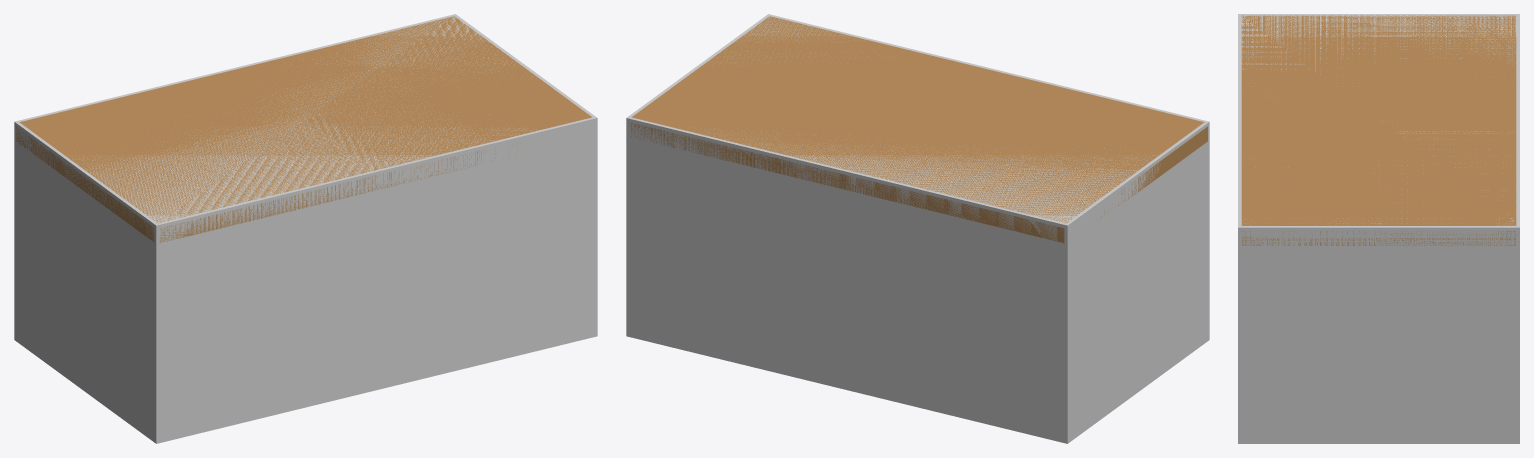
File: dining-table_commercial.glb
The picture shows the model from 3 angles, left to right: view 1: azimuth 30°, elevation 25°; view 2: azimuth 150°, elevation 25°; view 3: azimuth 270°, elevation 25°; orthographic projection.
Parts seen in each view (by area): view 1: COL_dining-table, MESH_Top; view 2: COL_dining-table, MESH_Top; view 3: COL_dining-table, MESH_Top.
Part boxes in pixels (<box>): COL_dining-table: <box>14,14,597,443</box>; MESH_Top: <box>16,16,592,242</box>; COL_dining-table: <box>626,14,1209,443</box>; MESH_Top: <box>629,16,1207,242</box>; COL_dining-table: <box>1238,14,1519,443</box>; MESH_Top: <box>1241,15,1516,245</box>.
Size of the model in its own units: 1.65 by 0.78 by 0.92.
